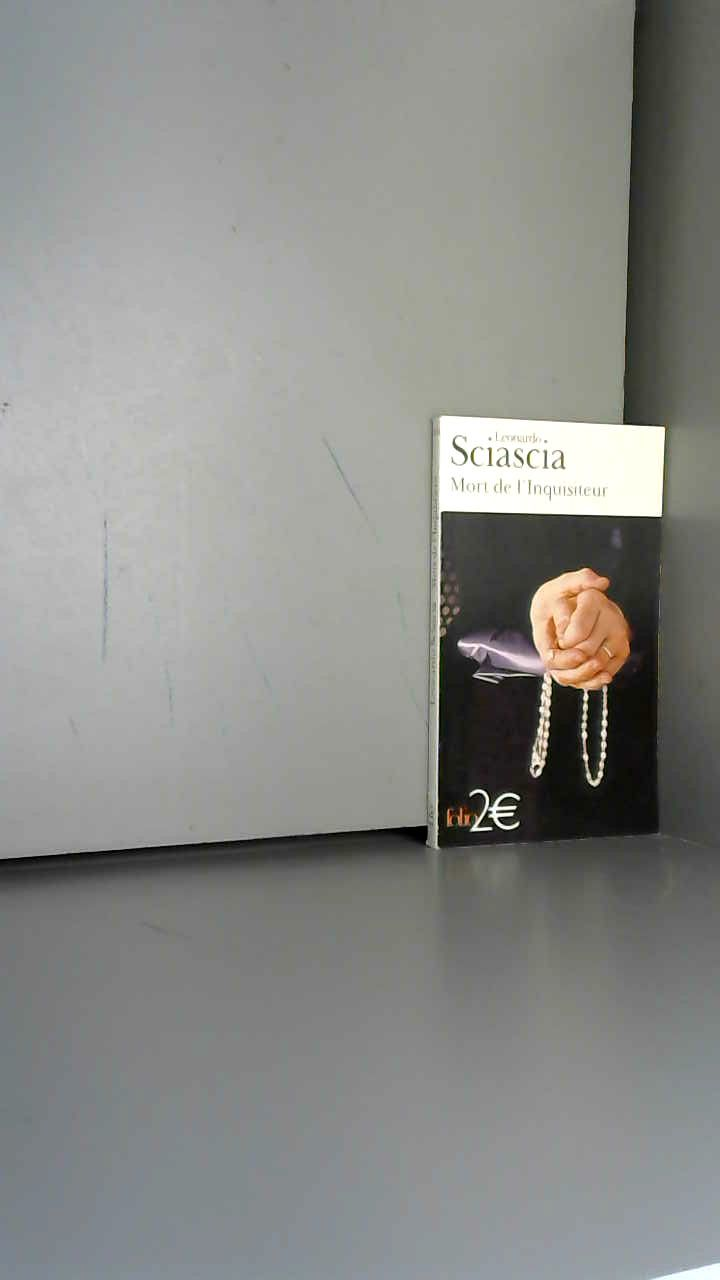book: (410, 390, 718, 877)
